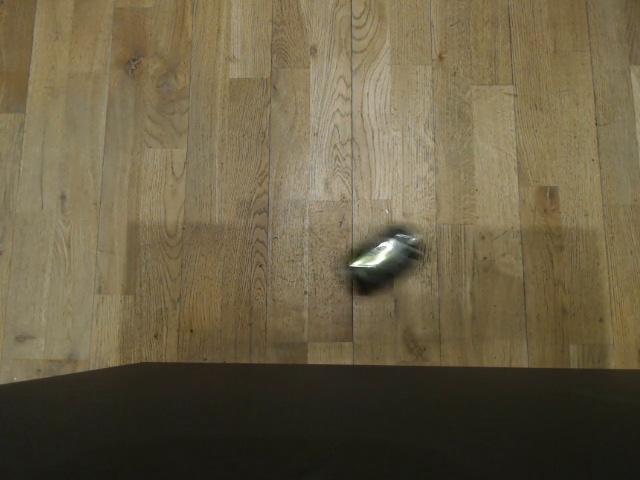beer: (343, 216, 428, 300)
